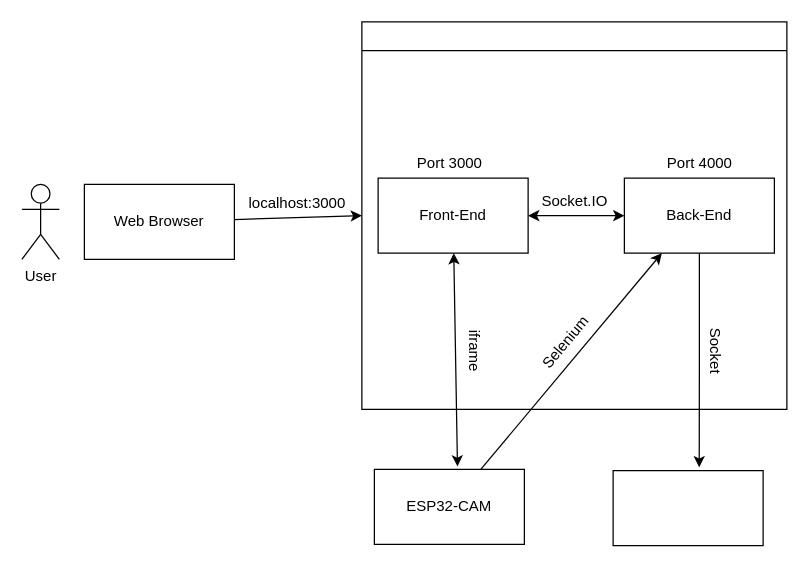
This 809x568 diagram has some shape labels left out. Each missing label, with the box of its shape:
ESP32 (Gear Control): (612, 469, 763, 546)
PC: (361, 21, 787, 409)
